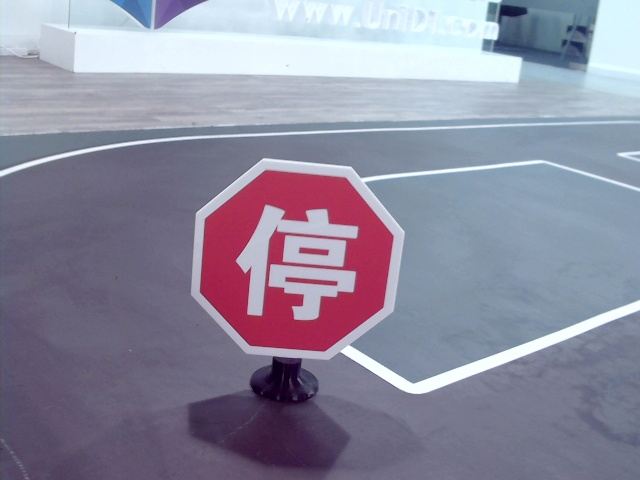stop: (237, 198, 357, 323)
